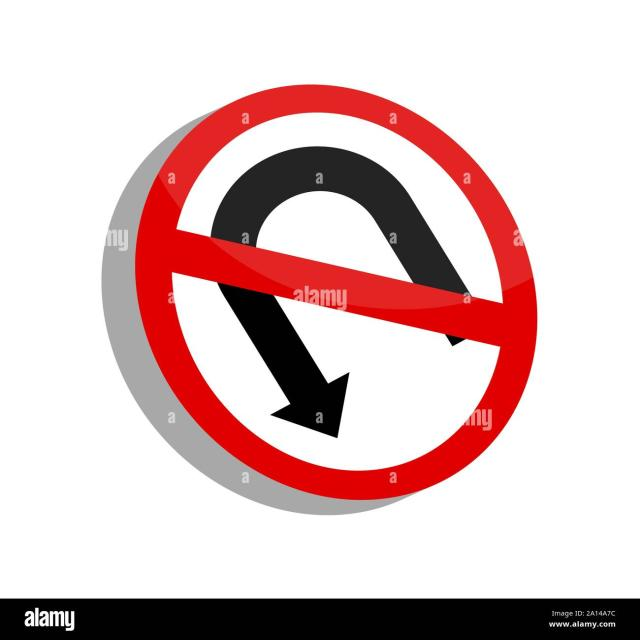Demi-Tour-Interdit: (163, 129, 522, 452)
